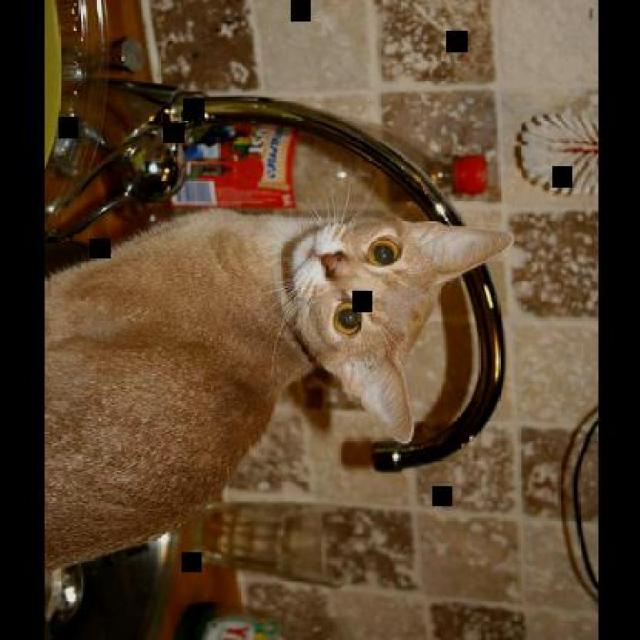unauthorized: (43, 178, 514, 572)
